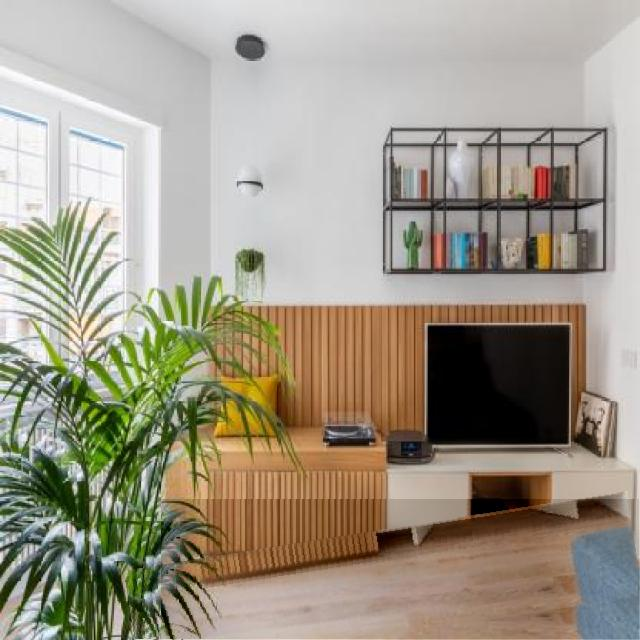floor: (161, 499, 639, 640), (143, 613, 174, 640)
